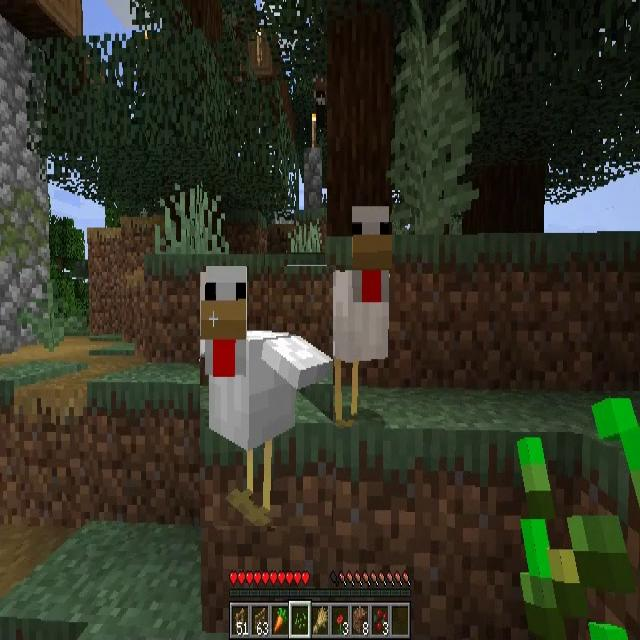duck: (200, 266, 333, 526), (328, 208, 392, 426)
